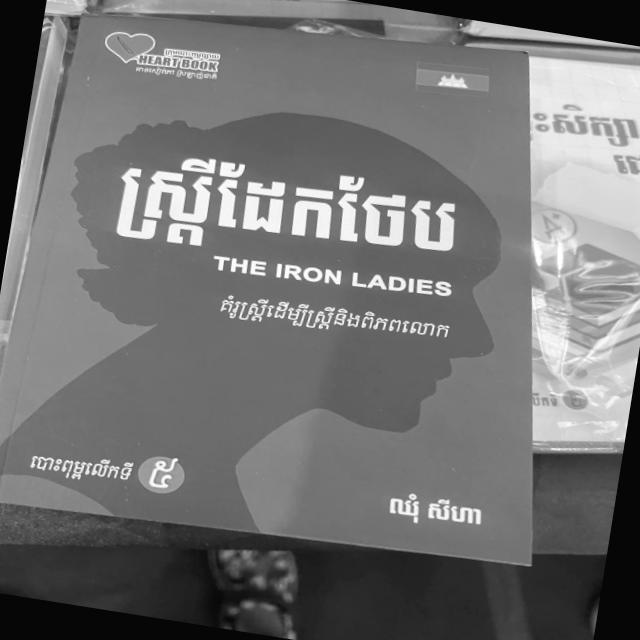1: (383, 491, 486, 532)
Yolov11kh: (108, 139, 477, 282), (206, 283, 454, 347), (26, 447, 179, 497)
